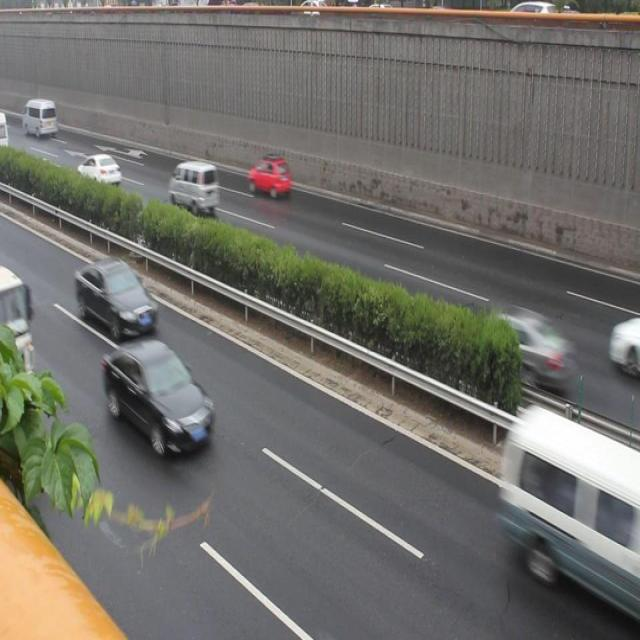car: (103, 339, 217, 455), (469, 295, 574, 392), (72, 252, 160, 338), (246, 152, 295, 204), (78, 148, 123, 191)
truck: (500, 404, 640, 615), (165, 155, 222, 215)
